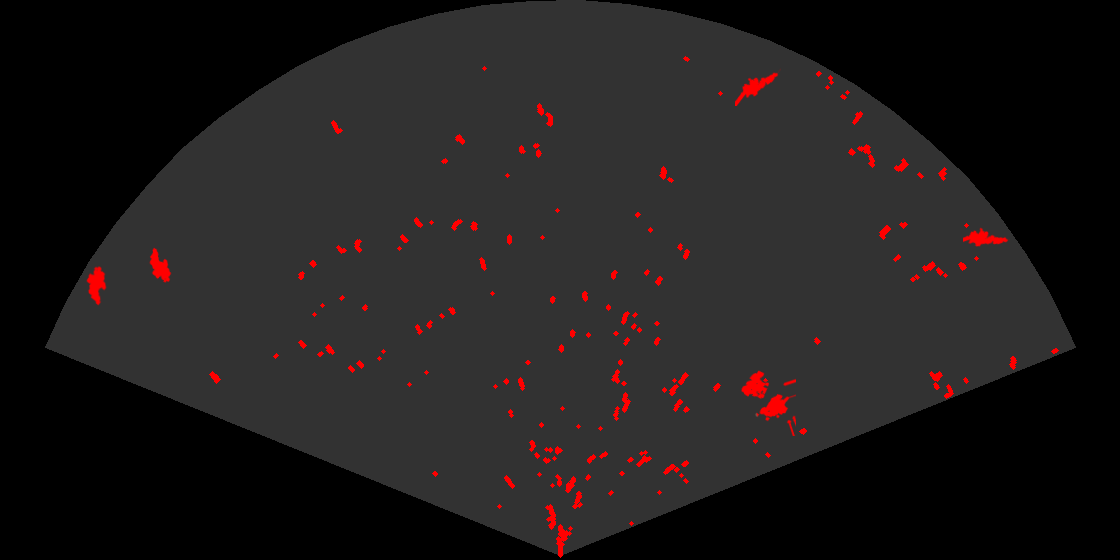AUV: (85, 265, 108, 307), (148, 246, 173, 284)
cage: (740, 369, 796, 436)
frogman: (735, 67, 781, 106), (963, 226, 1010, 248)
